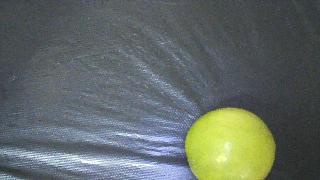LOCAL: (185, 108, 276, 180)
